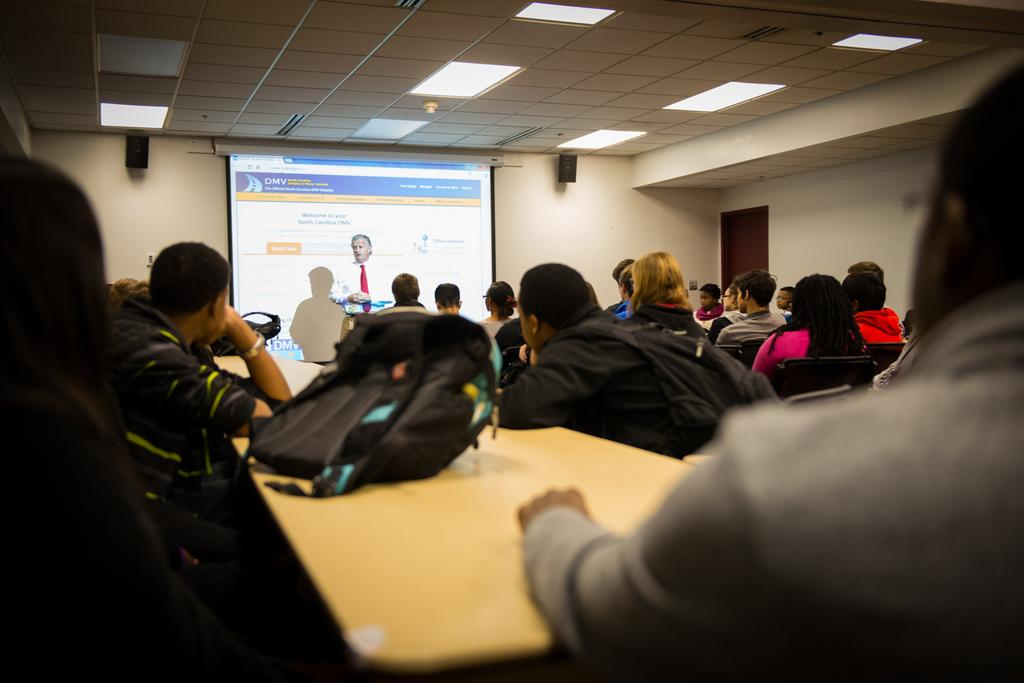Luggage-and-bags: (240, 313, 518, 531)
